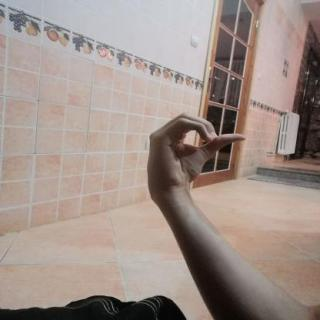WAW: (136, 106, 257, 200)
